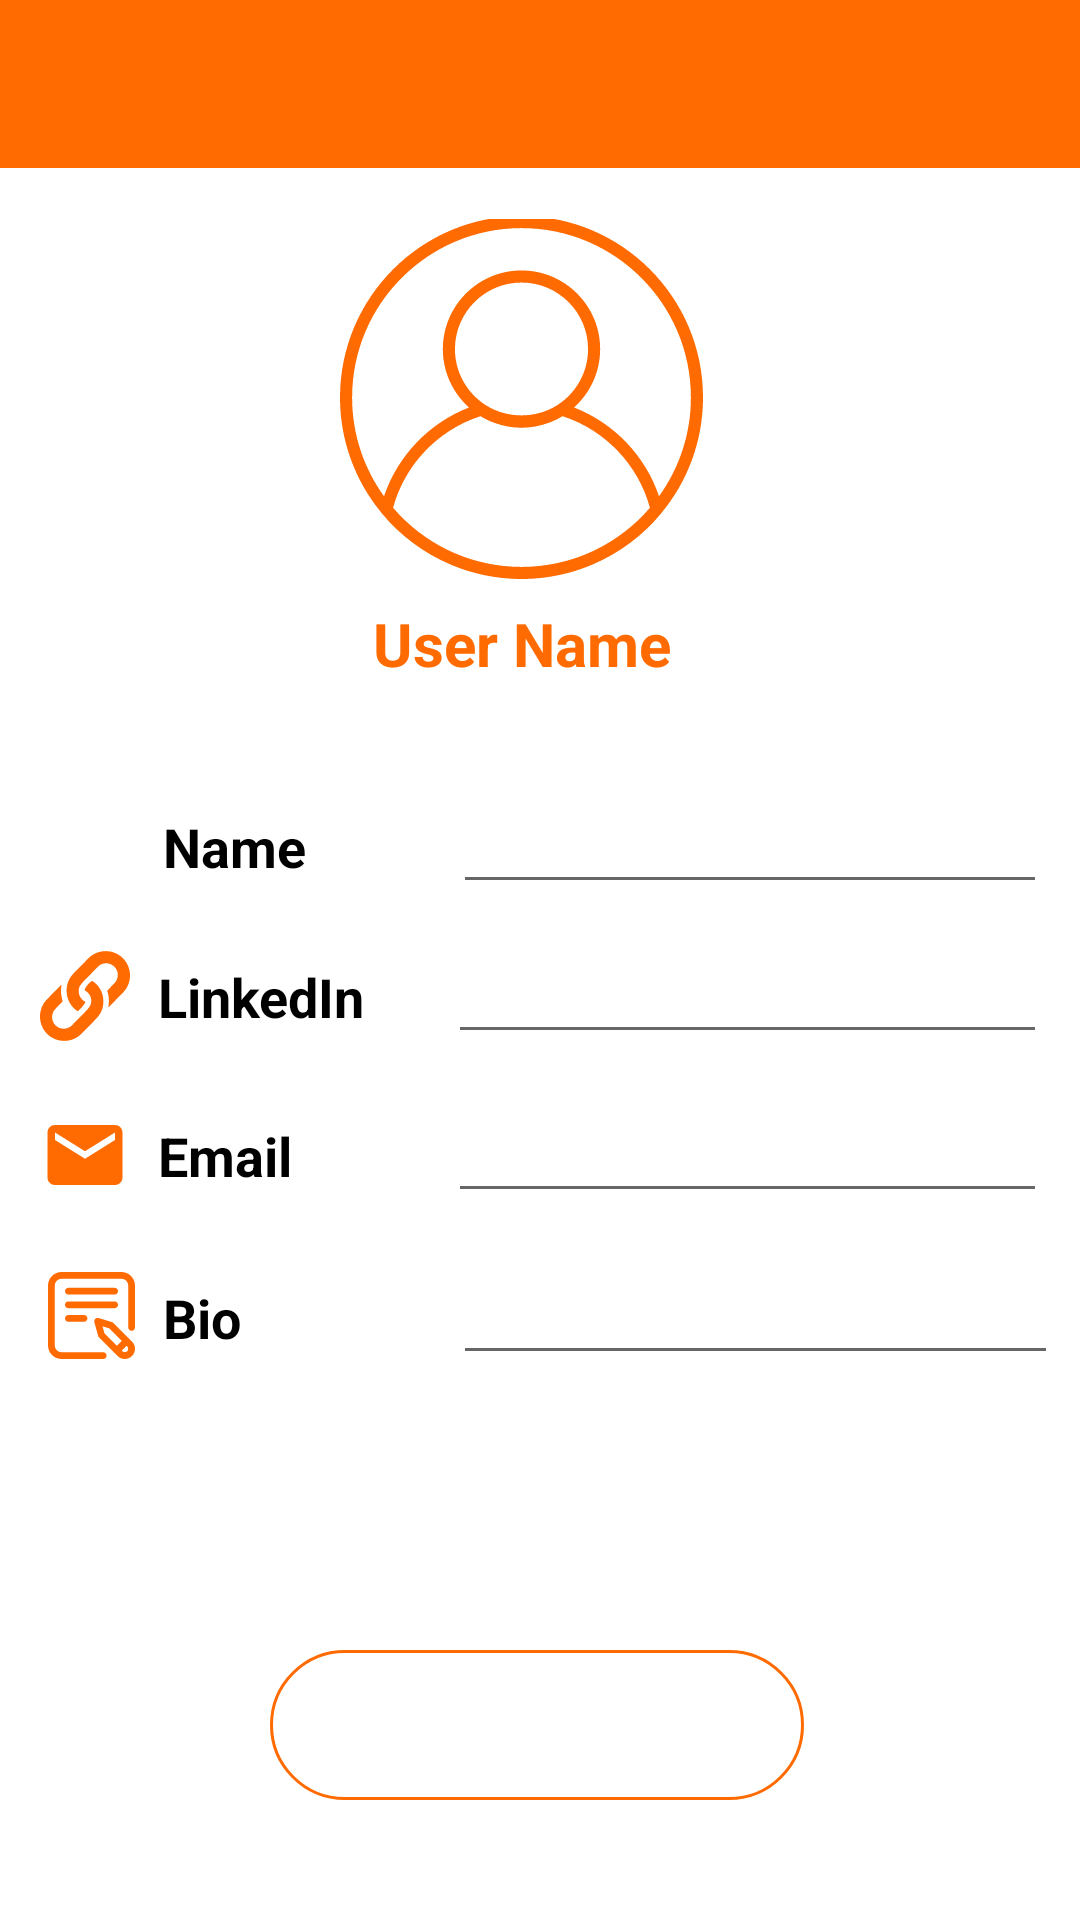

Icon click points for this 1080 x 1920 phone screenshot, format point (x, y):
url: point (85, 996)
